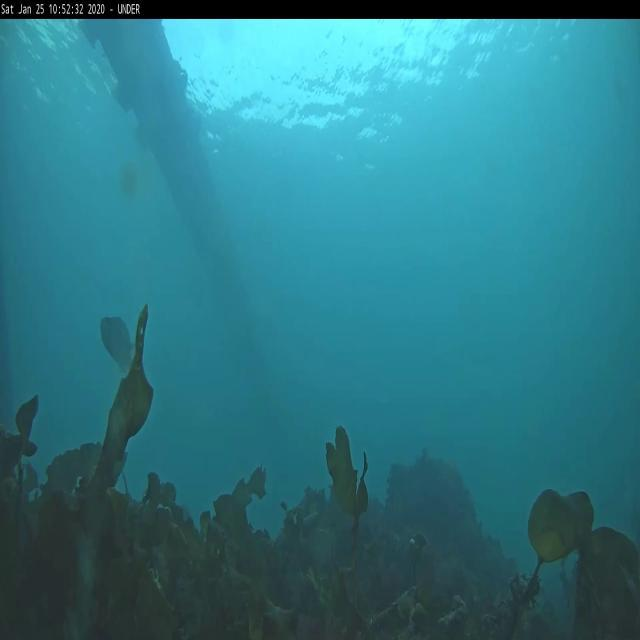fish: (102, 316, 134, 374)
